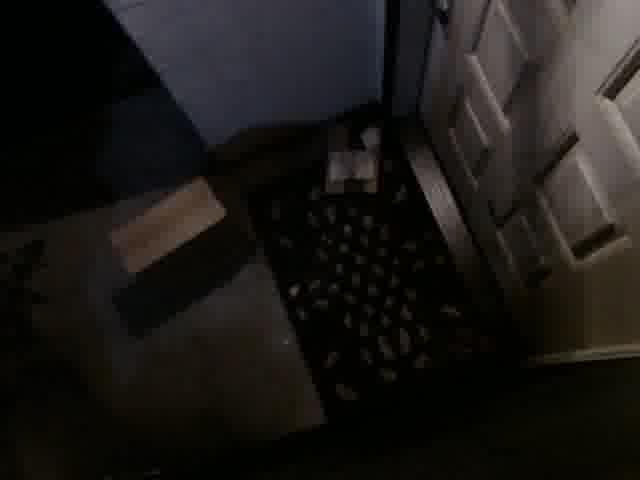box: (100, 173, 249, 302), (317, 123, 391, 202)
